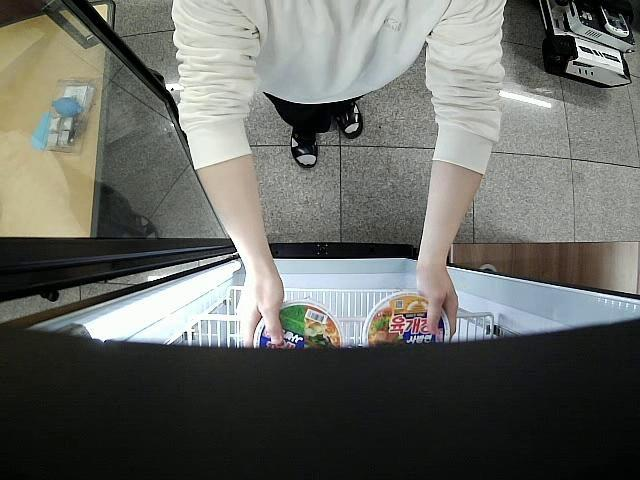09_yukGaeJang: (252, 298, 346, 353), (362, 293, 450, 348)
